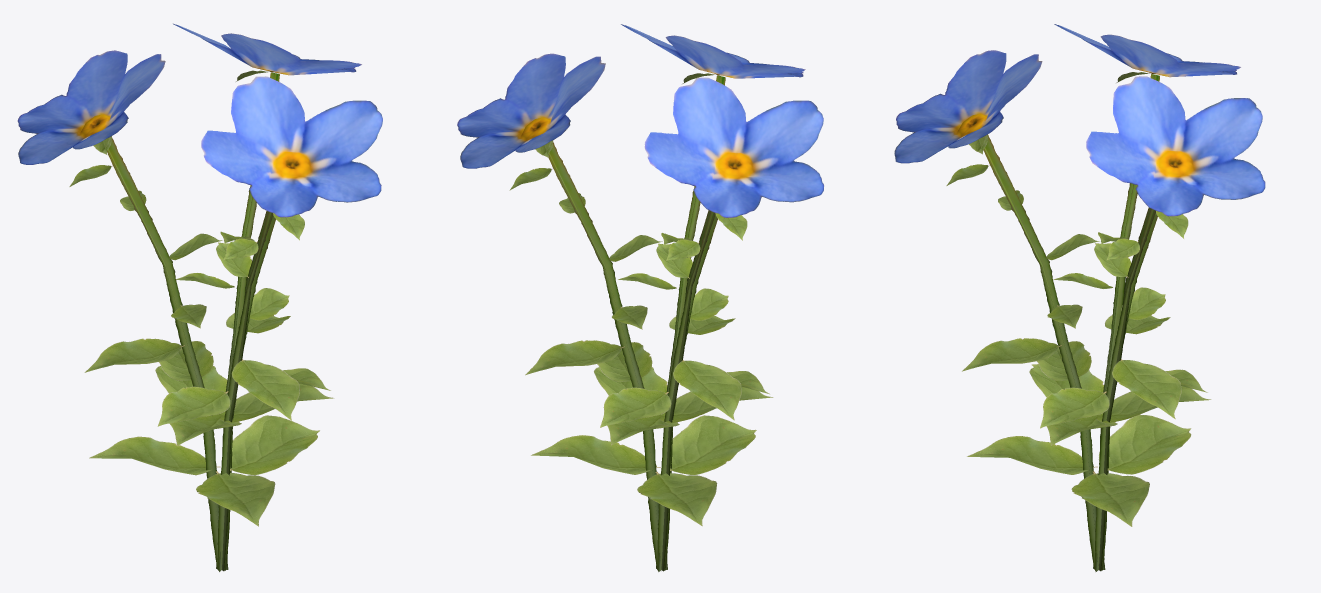
File: BlueFLower_2.fbx
3 views of the same model, side by side, from view 1: azimuth 30°, elevation 25°; view 2: azimuth 150°, elevation 25°; view 3: azimuth 270°, elevation 25° (orthographic).
Parts seen in each view (by area): view 1: BlueFLower_2; view 2: BlueFLower_2; view 3: BlueFLower_2.
Boxes of the visible parts, left/top/right/bottom form: BlueFLower_2: left=17, top=23, right=382, bottom=571; BlueFLower_2: left=457, top=24, right=823, bottom=571; BlueFLower_2: left=894, top=24, right=1265, bottom=571.
Size of the model in its own units: 0.2248 by 0.2781 by 0.203.
